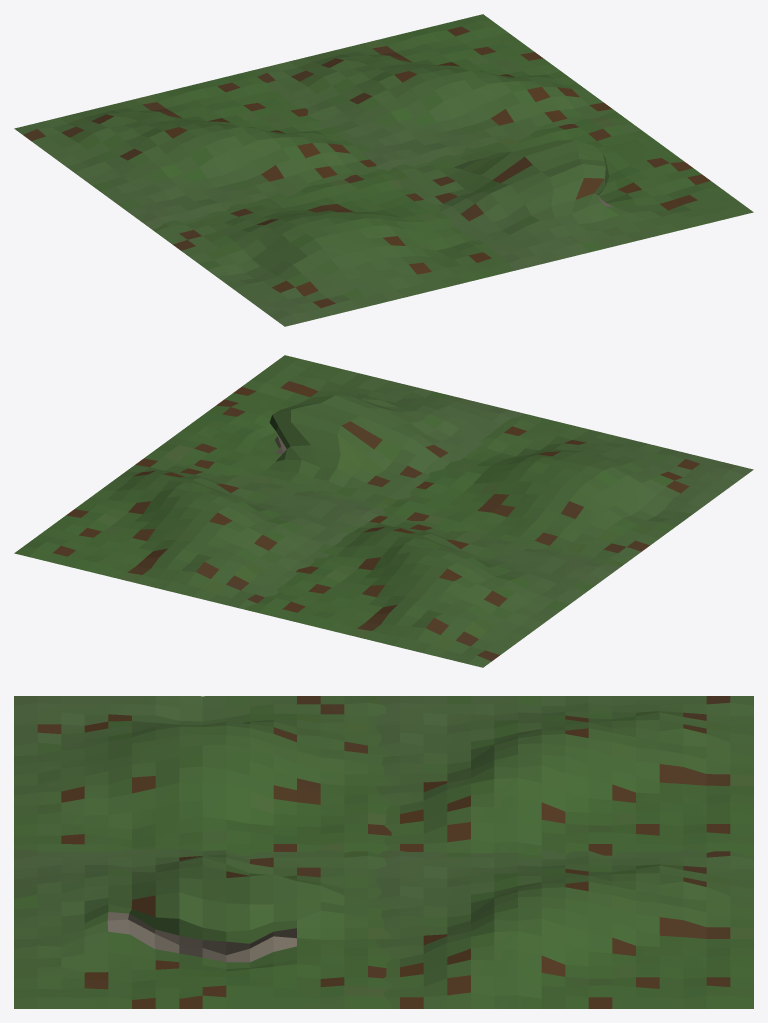
Rendered from terrain.gltf.
The picture shows the model from 3 angles, top to bottom: view 1: azimuth 30°, elevation 25°; view 2: azimuth 150°, elevation 25°; view 3: azimuth 270°, elevation 25°; orthographic projection. The views are drawn at different scales.
Parts seen in each view (by area): view 1: Terrain 2, Terrain 5 (1), Terrain 3, Terrain 5; view 2: Terrain 5 (1), Terrain 2, Terrain 5, Terrain 3; view 3: Terrain 2, Terrain 5, Terrain 5 (1), Terrain 3.
Part boxes in pixels (box(x1,y1,x2,y2)): Terrain 2: box(389, 111, 753, 270); Terrain 5 (1): box(14, 70, 377, 229); Terrain 3: box(152, 169, 514, 326); Terrain 5: box(253, 14, 615, 170); Terrain 5 (1): box(244, 514, 620, 667); Terrain 2: box(147, 355, 523, 508); Terrain 5: box(14, 456, 385, 609); Terrain 3: box(383, 413, 753, 566); Terrain 2: box(14, 849, 391, 1008); Terrain 5: box(376, 849, 753, 1008); Terrain 5 (1): box(376, 696, 753, 855); Terrain 3: box(14, 696, 391, 855).
Size of the model in its own units: 0.98 by 0.0731 by 0.98.
1 material, 1 textured.
